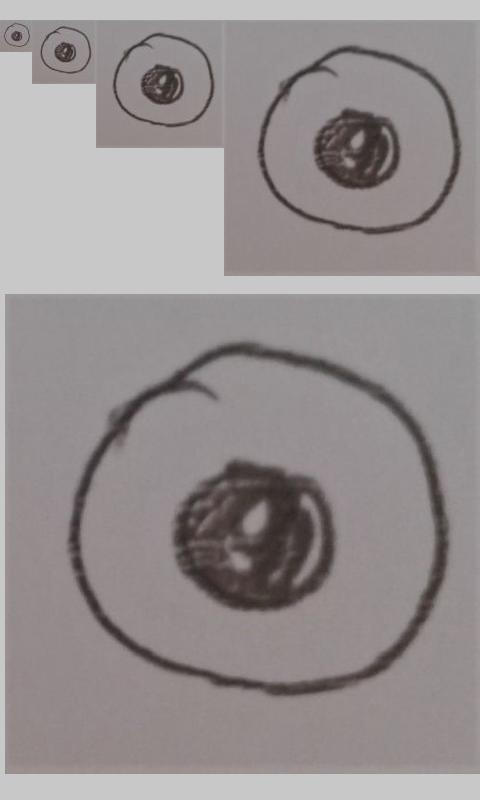radio_button: (65, 340, 451, 700), (257, 44, 463, 236), (112, 32, 216, 128), (40, 25, 92, 74), (3, 22, 30, 48)
